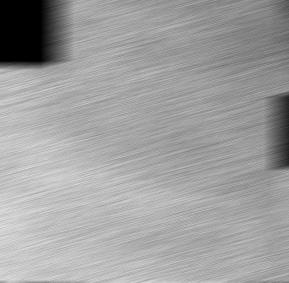Airbag: (0, 0, 289, 283), (281, 14, 289, 283)
